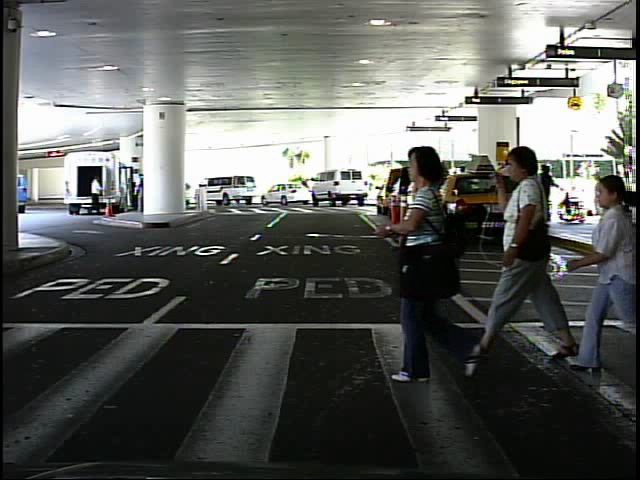person: (390, 132, 486, 389), (486, 133, 586, 374), (87, 170, 105, 220), (590, 172, 606, 217)
